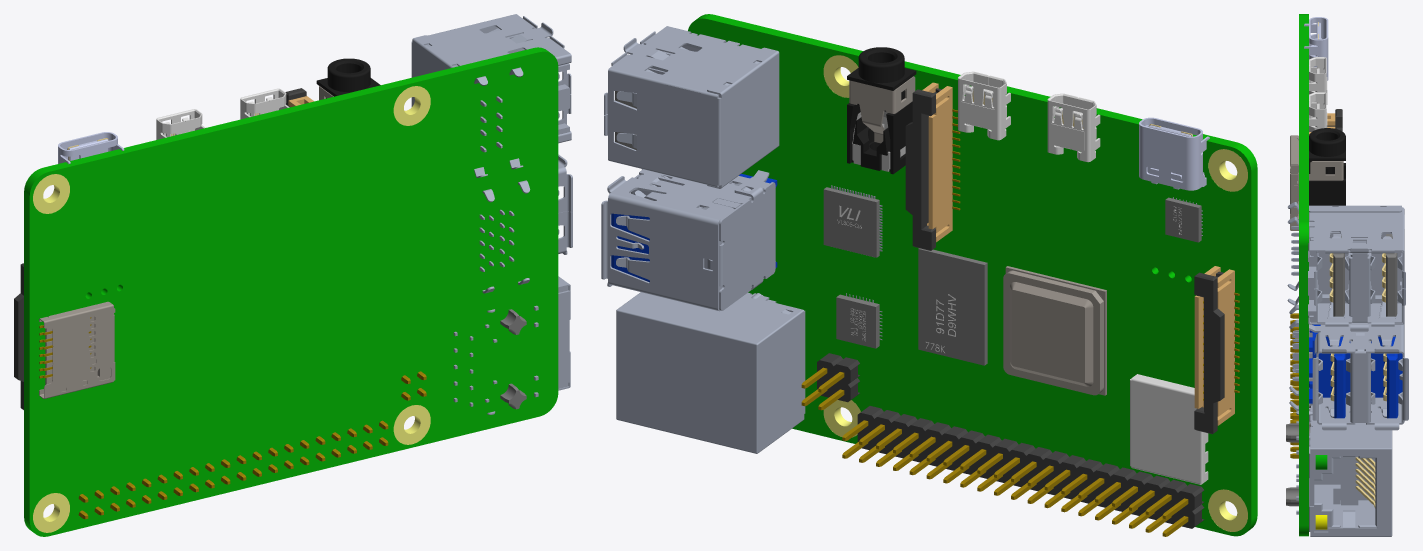
Rendered from RaspberryPi4ModelB-web.glb.
3 views of the same model, side by side, from view 1: azimuth 30°, elevation 25°; view 2: azimuth 150°, elevation 25°; view 3: azimuth 270°, elevation 25° (orthographic). The views are drawn at different scales.
Visible parts, largest first — view 1: PCB, RPi4ModelB, Gigabit Ethernet Port, RPi4ModelB, Broadcom BCM2711B0 CPU, RPi4ModelB, 2.54 mm DUPONT MALE PIN HEADER, POE, 2X2, RPi4ModelB001, Female Micro HDMI Connector, RPi4ModelB, Microphone Plug, RPi4ModelB003, 2.54 mm DUPONT MALE PIN HEADER, POE, 2X2, RPi4ModelB, Female USB Type C Connector, RPi4ModelB; view 2: PCB, RPi4ModelB, Gigabit Ethernet Port, RPi4ModelB, 2.54 mm DUPONT MALE PIN HEADER, POE, 2X2, RPi4ModelB, Broadcom BCM2711B0 CPU, RPi4ModelB, Female Micro HDMI Connector, RPi4ModelB, 2.54 mm DUPONT MALE PIN HEADER, POE, 2X2, RPi4ModelB001, Camera Connector, RPi4ModelB015, Microphone Plug, RPi4ModelB003, Female USB Type C Connector, RPi4ModelB, 2X USB3.0 PORTS, RPi4ModelB, 91D77 D9WHV 778K, 4 GB LPDDR4 SDRAM, RPi4ModelB; view 3: Gigabit Ethernet Port, RPi4ModelB, PCB, RPi4ModelB, 2X USB3.0 PORTS, RPi4ModelB, Microphone Plug, RPi4ModelB003, Broadcom BCM2711B0 CPU, RPi4ModelB, Female Micro HDMI Connector, RPi4ModelB, Female USB Type C Connector, RPi4ModelB, 2.54 mm DUPONT MALE PIN HEADER, POE, 2X2, RPi4ModelB001, 2.54 mm DUPONT MALE PIN HEADER, POE, 2X2, RPi4ModelB.
Part boxes in pixels (x1,y1,x2,y2): PCB, RPi4ModelB: (24,47,558,536); Gigabit Ethernet Port, RPi4ModelB: (67,14,572,414); Broadcom BCM2711B0 CPU, RPi4ModelB: (39,86,333,398); 2.54 mm DUPONT MALE PIN HEADER, POE, 2X2, RPi4ModelB001: (39,317,426,519); Female Micro HDMI Connector, RPi4ModelB: (156,88,289,139); Microphone Plug, RPi4ModelB003: (316,58,380,98); 2.54 mm DUPONT MALE PIN HEADER, POE, 2X2, RPi4ModelB: (14,88,306,409); Female USB Type C Connector, RPi4ModelB: (58,132,124,163); PCB, RPi4ModelB: (688,14,1257,536); Gigabit Ethernet Port, RPi4ModelB: (601,26,1202,453); 2.54 mm DUPONT MALE PIN HEADER, POE, 2X2, RPi4ModelB: (817,88,1224,528); Broadcom BCM2711B0 CPU, RPi4ModelB: (849,76,1106,395); Female Micro HDMI Connector, RPi4ModelB: (958,71,1208,484); 2.54 mm DUPONT MALE PIN HEADER, POE, 2X2, RPi4ModelB001: (801,367,1188,536); Camera Connector, RPi4ModelB015: (922,82,1234,425); Microphone Plug, RPi4ModelB003: (847,47,916,174); Female USB Type C Connector, RPi4ModelB: (1139,117,1209,190); 2X USB3.0 PORTS, RPi4ModelB: (611,174,777,282); 91D77 D9WHV 778K, 4 GB LPDDR4 SDRAM, RPi4ModelB: (837,205,1181,352); Gigabit Ethernet Port, RPi4ModelB: (1286,22,1408,536); PCB, RPi4ModelB: (1299,14,1327,536); 2X USB3.0 PORTS, RPi4ModelB: (1309,324,1402,418); Microphone Plug, RPi4ModelB003: (1309,128,1345,205); Broadcom BCM2711B0 CPU, RPi4ModelB: (1290,135,1343,230); Female Micro HDMI Connector, RPi4ModelB: (1309,57,1327,131); Female USB Type C Connector, RPi4ModelB: (1304,17,1328,80); 2.54 mm DUPONT MALE PIN HEADER, POE, 2X2, RPi4ModelB001: (1290,313,1298,458); 2.54 mm DUPONT MALE PIN HEADER, POE, 2X2, RPi4ModelB: (1309,109,1342,416).
Bounding box in the file's own units: 0.089 × 0.0584 × 0.0199.
